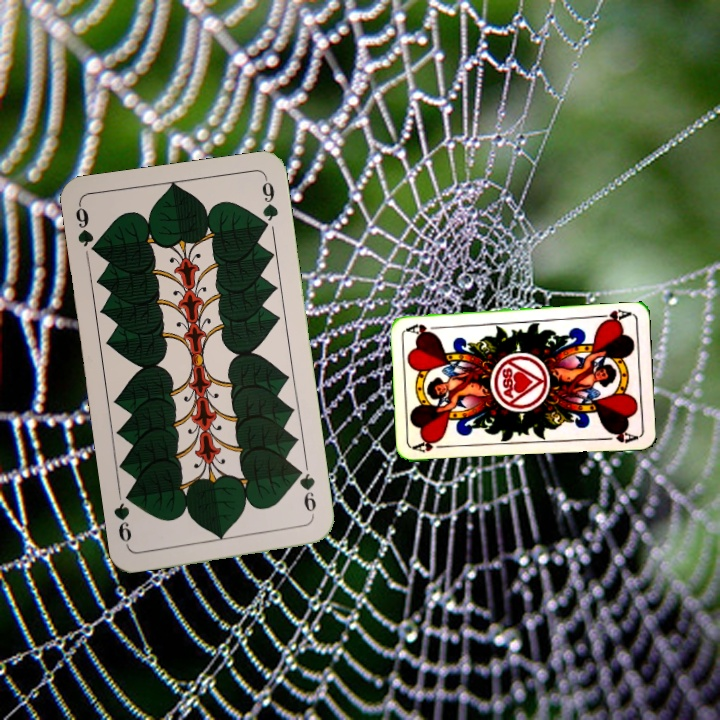G9: (71, 201, 102, 258), (292, 464, 319, 522)
HA: (593, 306, 633, 326), (411, 436, 451, 455)
